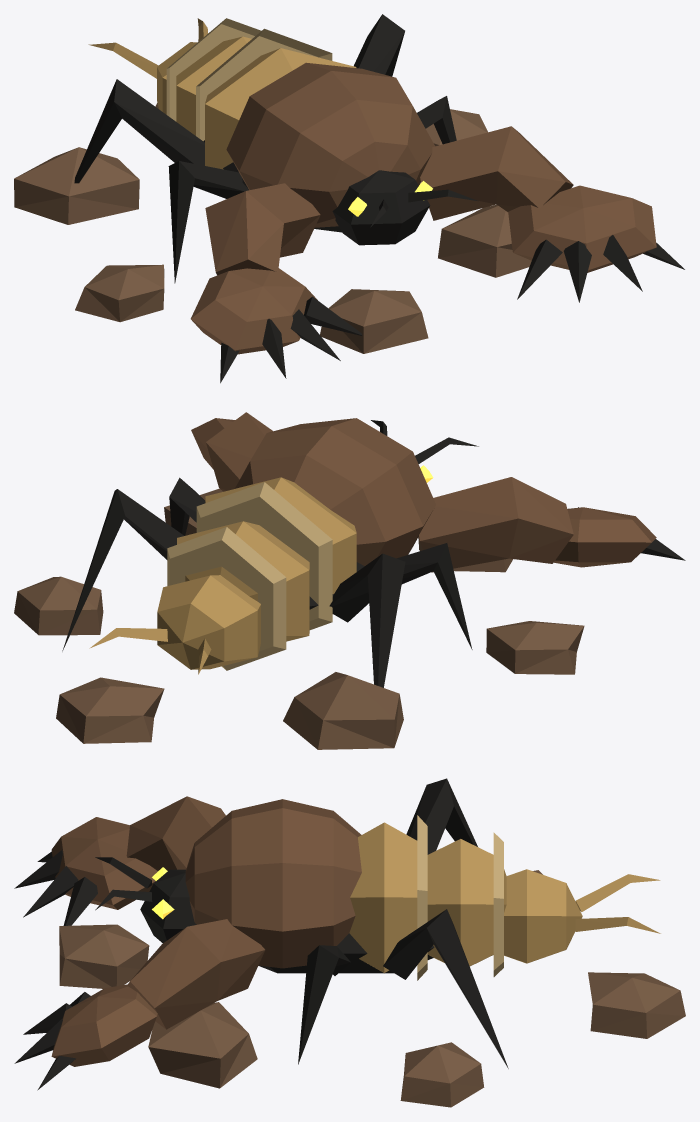
The model's file is Burrower.fbx.
The picture shows the model from 3 angles, top to bottom: view 1: azimuth 30°, elevation 25°; view 2: azimuth 150°, elevation 25°; view 3: azimuth 270°, elevation 25°; orthographic projection.
Visible parts, largest first — view 1: Mound, Pronotum, ClawL, ClawR, Abdomen, LegsR, Body, Bands, LegsL, ClawTipsL, ClawTipsR, Antennae; view 2: Mound, Abdomen, Pronotum, ClawR, Bands, LegsR, LegsL, ClawL, Antennae; view 3: Pronotum, Abdomen, Mound, ClawL, ClawR, LegsL, Body, Bands, LegsR, ClawTipsR, ClawTipsL, Antennae.
Part boxes in pixels (x1,y1,x2,y2): Mound: (14, 103, 531, 353); Pronotum: (226, 62, 434, 227); ClawL: (420, 126, 656, 272); ClawR: (190, 183, 320, 354); Abdomen: (88, 18, 356, 169); LegsR: (74, 79, 248, 283); Body: (203, 140, 430, 245); Bands: (166, 18, 332, 141); LegsL: (354, 14, 472, 211); ClawTipsL: (517, 235, 684, 302); ClawTipsR: (220, 296, 362, 383); Antennae: (370, 189, 478, 227); Mound: (14, 488, 584, 749); Abdomen: (89, 477, 356, 674); Pronotum: (235, 418, 435, 565); ClawR: (419, 477, 656, 572); Bands: (167, 482, 332, 670); LegsR: (329, 543, 472, 687); LegsL: (62, 477, 205, 651); ClawL: (191, 412, 272, 491); Antennae: (371, 420, 478, 463); Pronotum: (185, 799, 361, 968); Abdomen: (349, 822, 660, 973); Mound: (59, 870, 685, 1107); ClawL: (51, 919, 265, 1066); ClawR: (51, 796, 225, 909); LegsL: (298, 909, 508, 1068); Body: (140, 869, 434, 973); Bands: (417, 815, 503, 980); LegsR: (406, 778, 477, 854); ClawTipsR: (14, 850, 97, 925); ClawTipsL: (14, 992, 90, 1090); Antennae: (95, 857, 152, 910).
Bounding box in the file's own units: 4.43 × 1.6 × 5.28.
